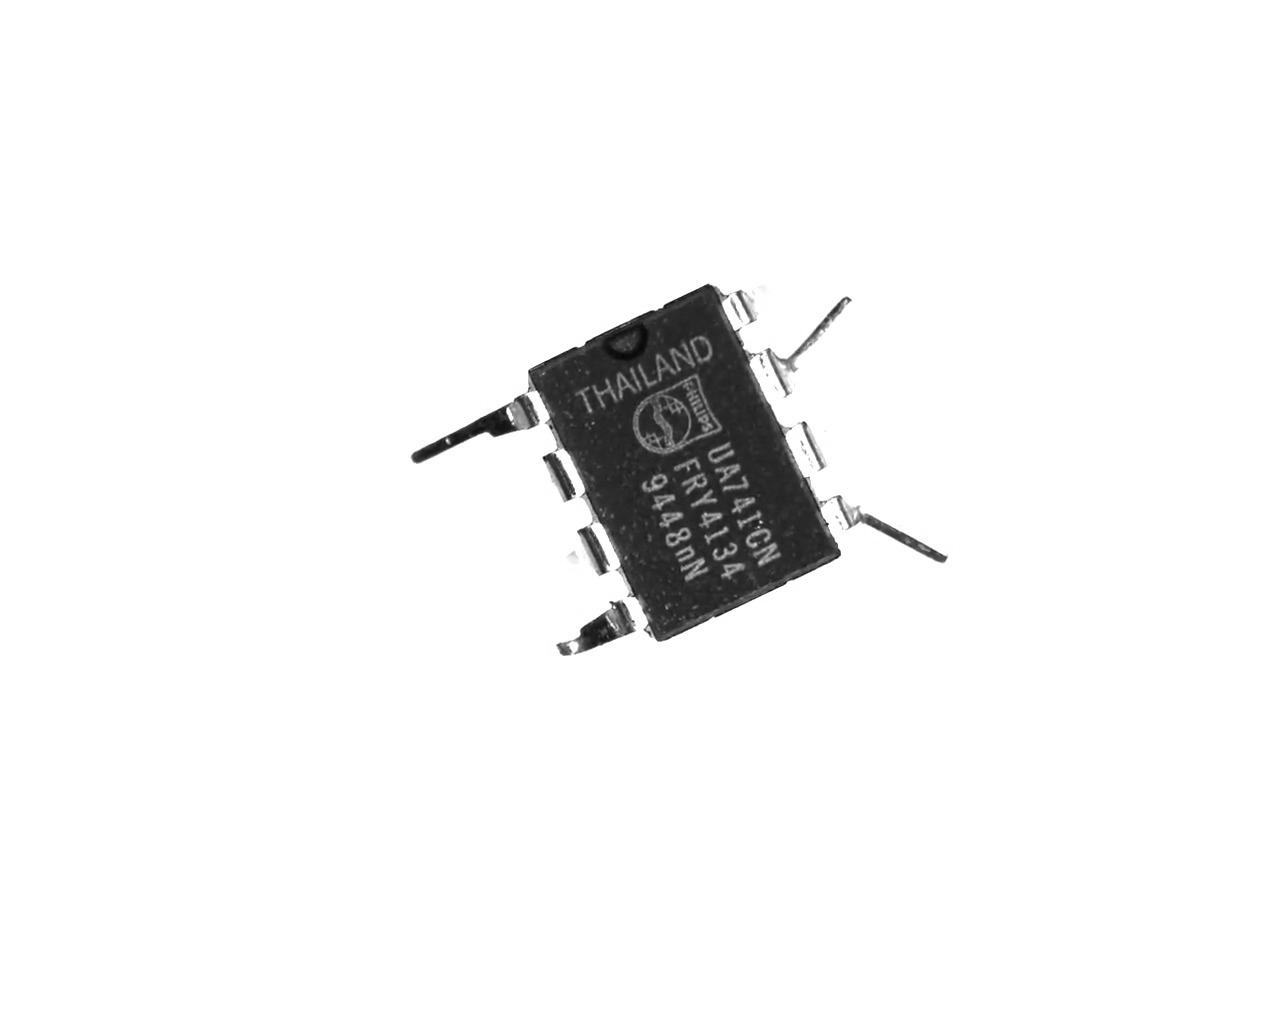Leg: (382, 382, 548, 468), (747, 292, 866, 408), (808, 491, 944, 567), (548, 584, 649, 667), (556, 521, 630, 590), (784, 409, 836, 484), (729, 265, 777, 340), (536, 443, 585, 509)
